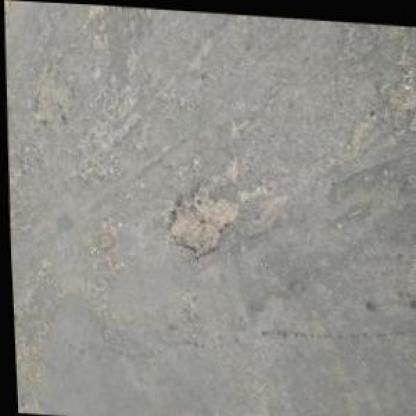pothole: (164, 173, 240, 254), (28, 69, 76, 125)
